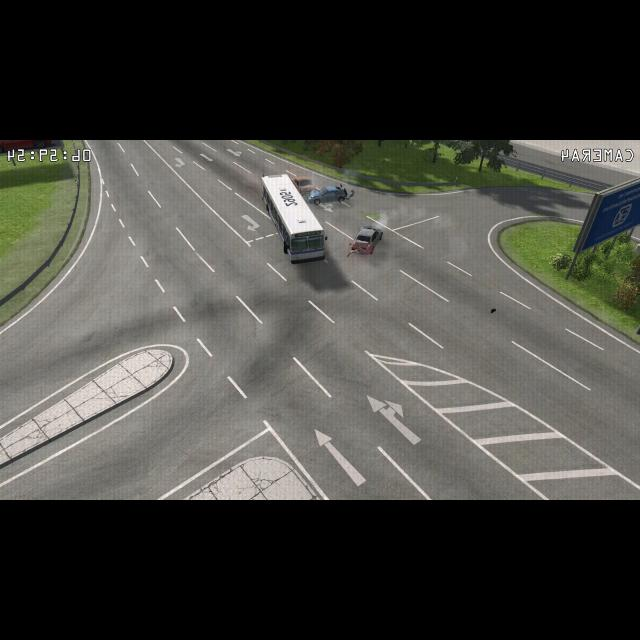accident: (293, 172, 351, 206)
